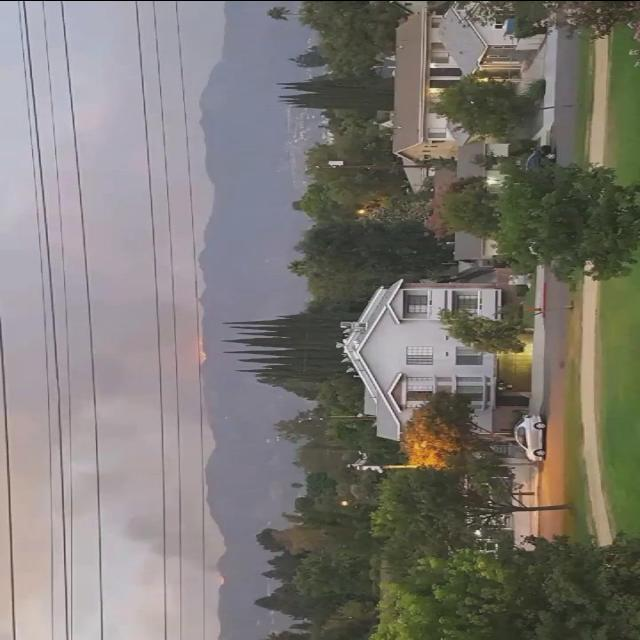Fire: (199, 350, 209, 362)
